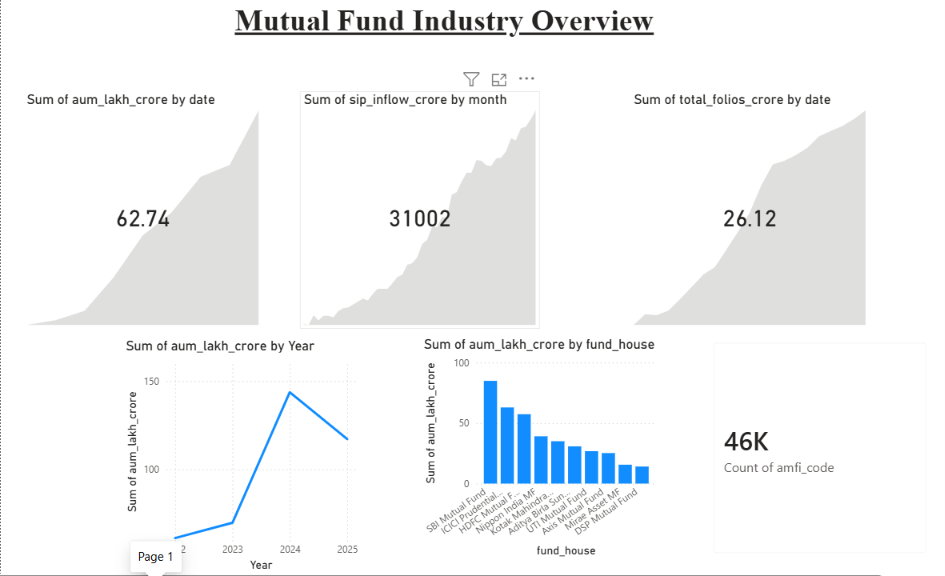

Layout of this report page (visuals, bound fields, positions):
{"tool":"powerbi","page":{"name":"Page 1","canvas":[1280,720],"ordinal":0},"visuals":[{"type":"lineChart","fields":{"Category":["03_aum_by_fund_house.date.Variation.Date Hierarchy.Year","03_aum_by_fund_house.date.Variation.Date Hierarchy.Quarter","03_aum_by_fund_house.date.Variation.Date Hierarchy.Month","03_aum_by_fund_house.date.Variation.Date Hierarchy.Day"],"Y":["Sum(03_aum_by_fund_house.aum_lakh_crore)"]},"box":[151.2,422.5,300,297.5],"z":0},{"type":"clusteredColumnChart","fields":{"Category":["03_aum_by_fund_house.fund_house"],"Y":["Sum(03_aum_by_fund_house.aum_lakh_crore)"]},"box":[523.8,421.2,300,281.2],"z":1000},{"type":"kpi","fields":{"Indicator":["Sum(03_aum_by_fund_house.aum_lakh_crore)"],"TrendLine":["03_aum_by_fund_house.date"]},"box":[27.5,115,300,297.5],"z":2000},{"type":"kpi","fields":{"Indicator":["Sum(04_monthly_sip_inflows.sip_inflow_crore)"],"TrendLine":["04_monthly_sip_inflows.month"]},"box":[373.8,115,300,297.5],"z":3000},{"type":"kpi","fields":{"Indicator":["Sum(06_industry_folio_count.total_folios_crore)"],"TrendLine":["06_industry_folio_count.month"]},"box":[786.2,115,300,297.5],"z":4000},{"type":"cardVisual","fields":{"Data":["CountNonNull(02_nav_history_cleaned.amfi_code)"]},"box":[873.8,412.5,300,297.5],"z":5000},{"type":"textbox","box":[1096,115,184,298],"z":5001},{"type":"textbox","box":[287.5,0,571.2,80],"z":5002}]}

Visuals, with their boxes on the page's 1280x720 design canvas (x1, y1, x2, y2). These are canvas units, not pixel positions in the 945x576 screenshot, which may show the page scaled, cropped or inside an application window:
lineChart - 03_aum_by_fund_house.date.Variation.Date Hierarchy.Year x 03_aum_by_fund_house.date.Variation.Date Hierarchy.Quarter: Rect(151, 422, 451, 720)
clusteredColumnChart - 03_aum_by_fund_house.fund_house x Sum(03_aum_by_fund_house.aum_lakh_crore): Rect(524, 421, 824, 702)
kpi - Sum(03_aum_by_fund_house.aum_lakh_crore) x 03_aum_by_fund_house.date: Rect(28, 115, 328, 412)
kpi - Sum(04_monthly_sip_inflows.sip_inflow_crore) x 04_monthly_sip_inflows.month: Rect(374, 115, 674, 412)
kpi - Sum(06_industry_folio_count.total_folios_crore) x 06_industry_folio_count.month: Rect(786, 115, 1086, 412)
cardVisual - CountNonNull(02_nav_history_cleaned.amfi_code): Rect(874, 412, 1174, 710)
textbox: Rect(1096, 115, 1280, 413)
textbox: Rect(288, 0, 859, 80)
